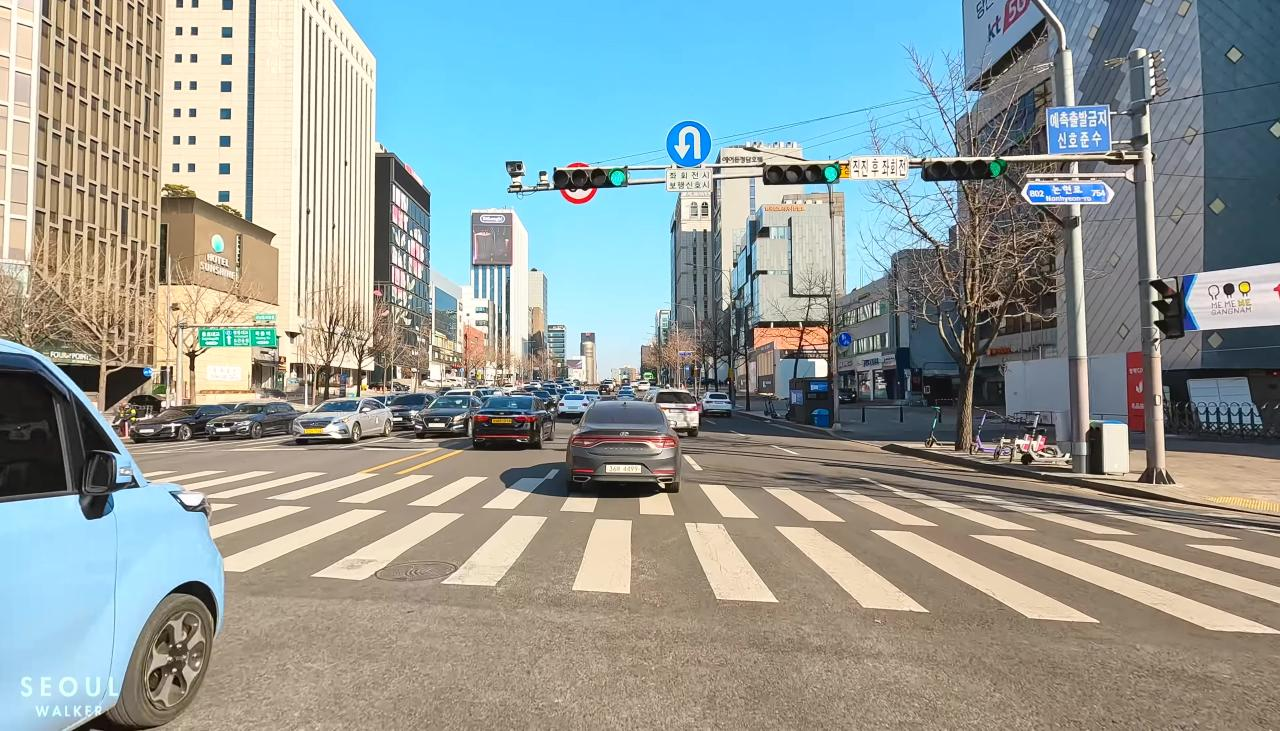Green Light: (608, 168, 627, 189), (987, 160, 1003, 178), (824, 166, 838, 183)
